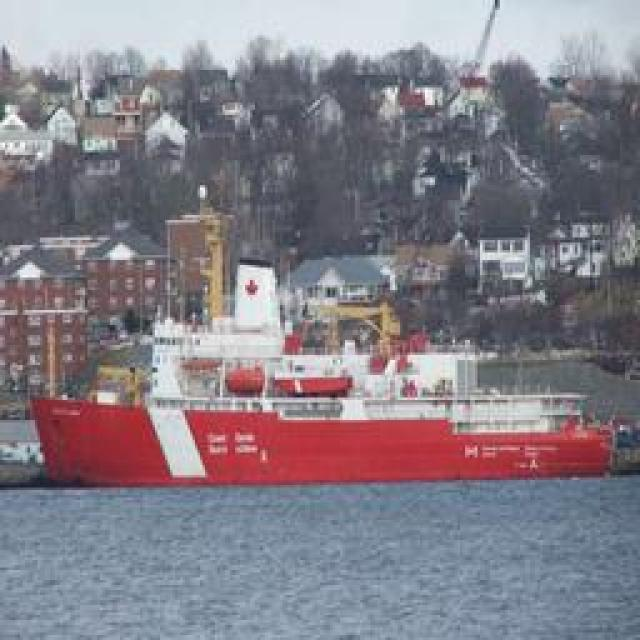ship2: (30, 258, 615, 487)
